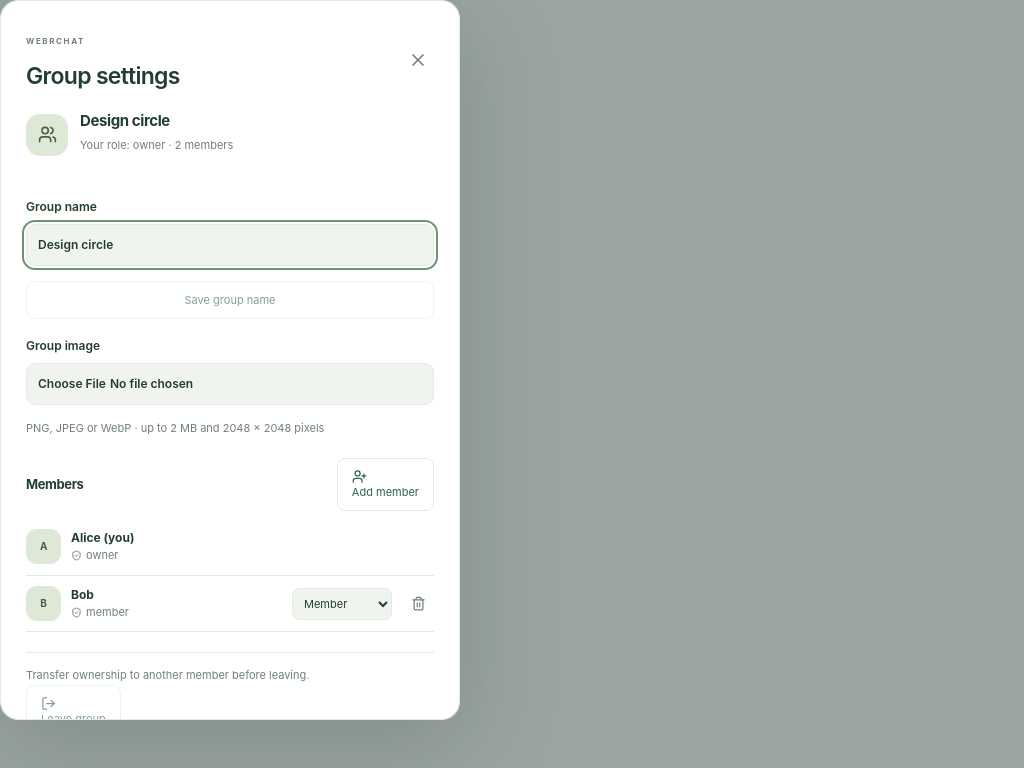
Test case: requires explicit confirmation for ownership transfer and prevents owner abandonment
Later steps or results of the test are not shown.
Expected: the button "Leave group" is disabled, top-left (26, 685), bottom-right (121, 720)
Select "Make owner" in the dropdown named "Role for Bob" at (342, 604), box top-left (292, 588), bottom-right (392, 620)
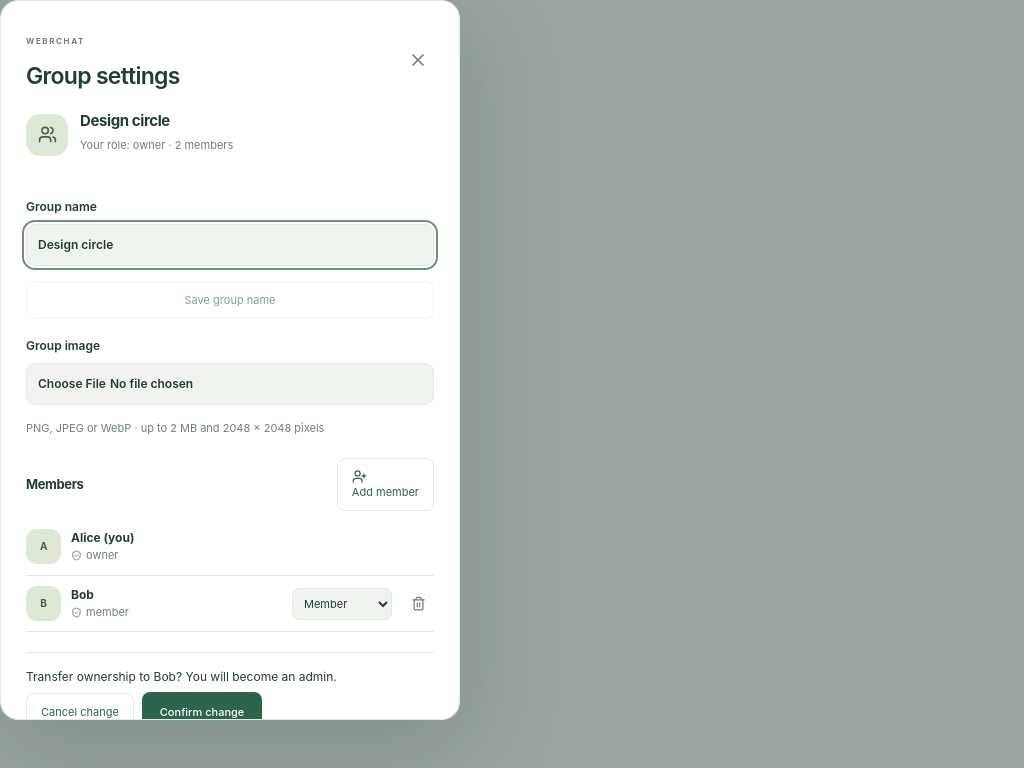
Now the element named "Confirm group change" shows "Transfer ownership to Bob", box top-left (26, 669), bottom-right (337, 684)
